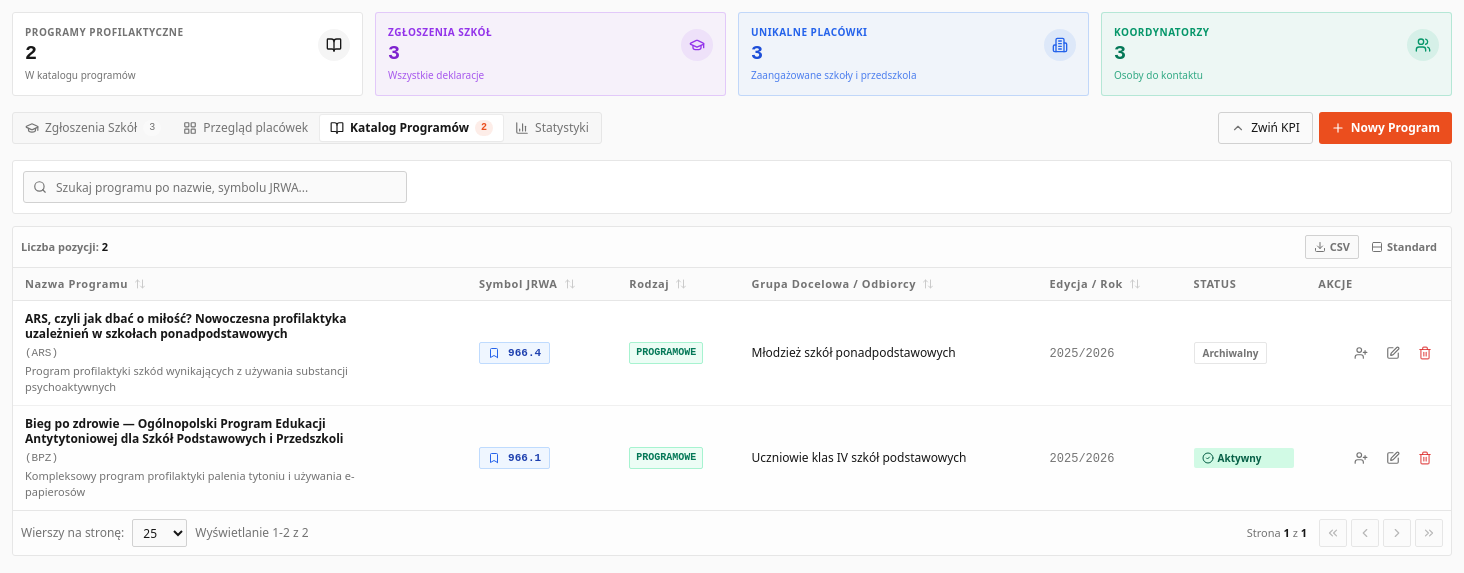
Test: Programy i udziały: przypadki brzegowe › LocalStorage Resilience & Failure Modes › ProgramsSection persists KPI collapse state across re-renders in localStorage
Check: the text "Programy Profilaktyczne" is shown, box [25,25,184,39]
# Click collapse
Click the button "Zwiń KPI".
click(1265, 128)  # box [1218,112,1313,144]
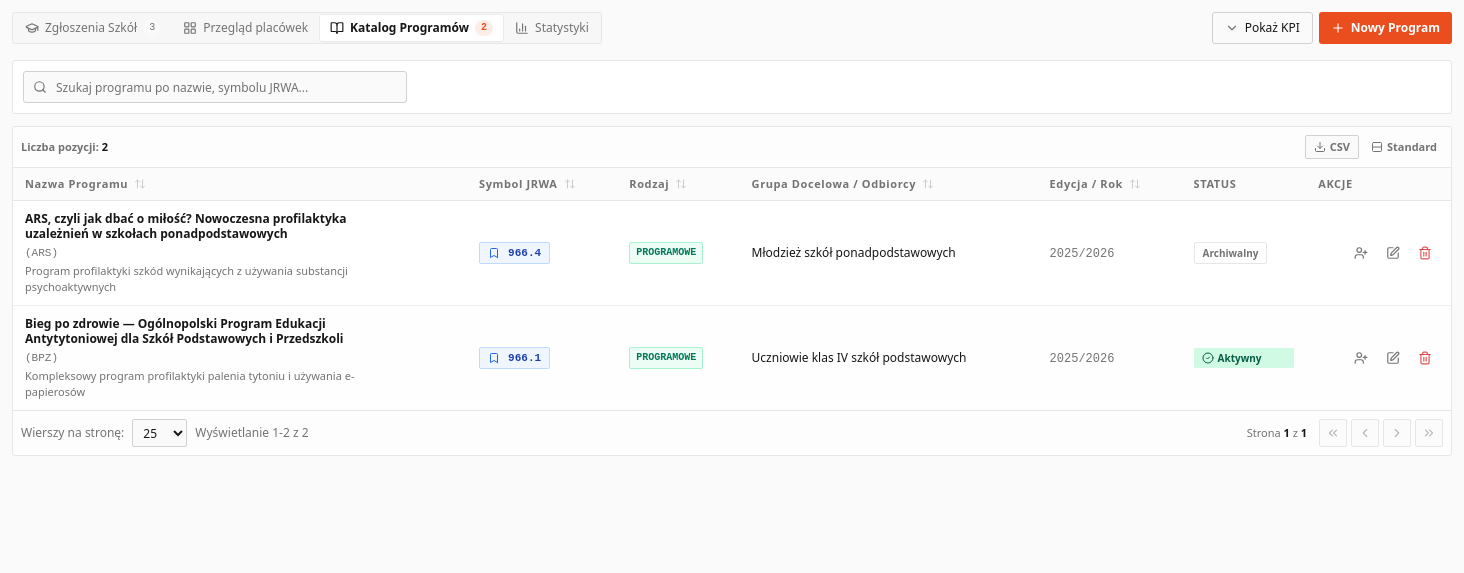
Check: the text "Programy Profilaktyczne" is gone
# Click expand
Click the button "Pokaż KPI".
click(1262, 28)  # box [1212,12,1313,44]
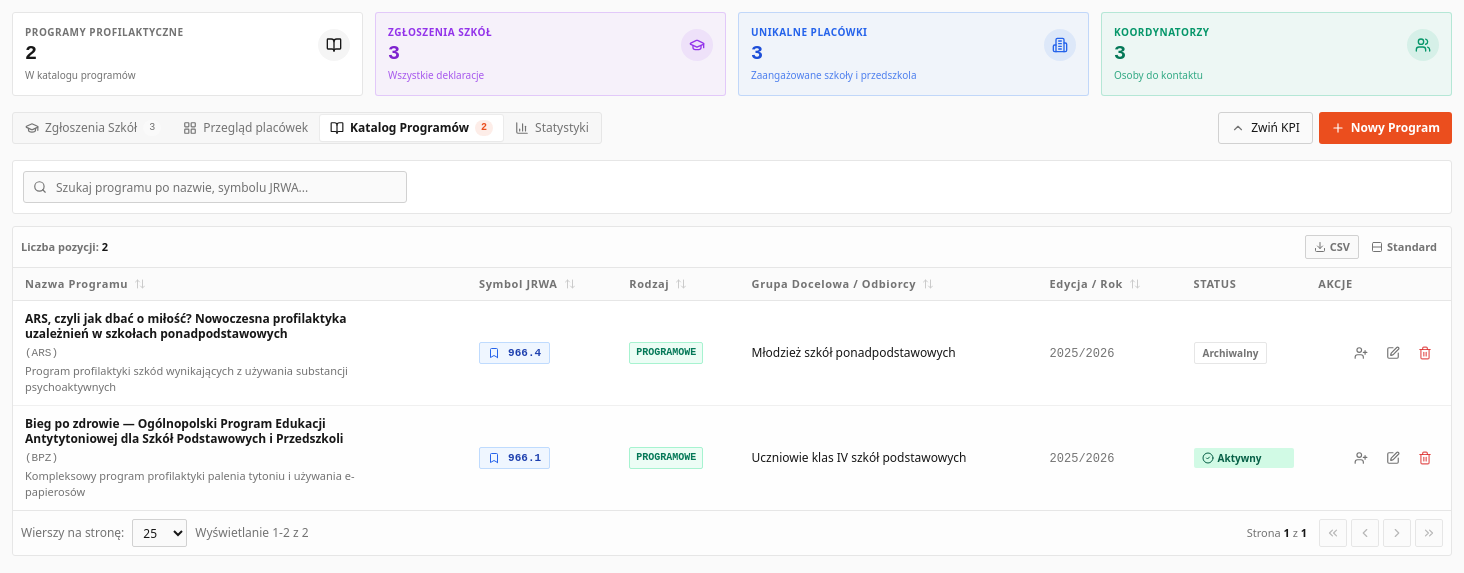
Check: the text "Programy Profilaktyczne" is shown, box [25,25,184,39]
